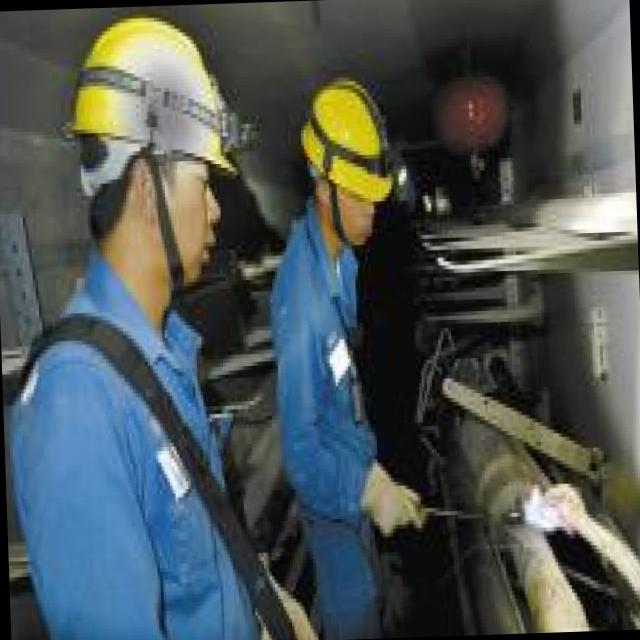helmet: (62, 3, 225, 294), (301, 76, 401, 254)
